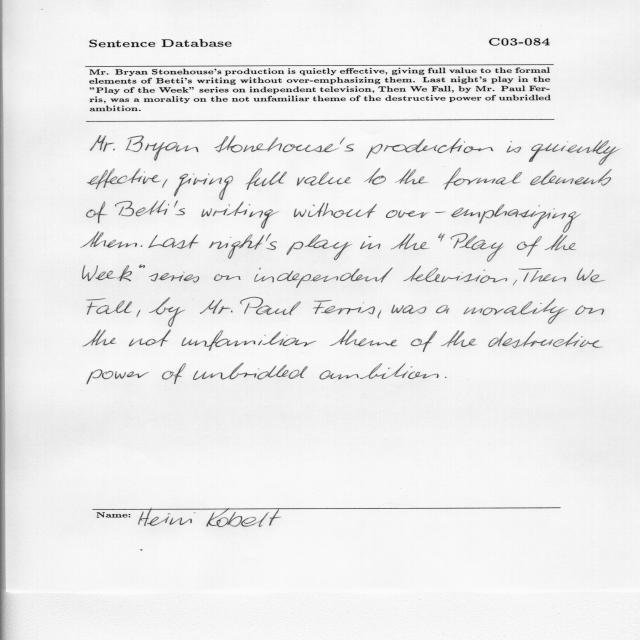word: (386, 204, 581, 233), (254, 267, 393, 288), (182, 330, 317, 351), (463, 298, 568, 324), (366, 138, 494, 158), (214, 136, 354, 153), (529, 140, 620, 165), (202, 201, 280, 229), (319, 363, 439, 380), (488, 331, 603, 348), (193, 363, 308, 380), (126, 135, 199, 161), (404, 265, 508, 283), (209, 233, 277, 259), (287, 235, 353, 261), (443, 168, 522, 189), (174, 173, 233, 200), (87, 169, 161, 190), (451, 233, 504, 262), (530, 169, 612, 186), (294, 202, 377, 218), (240, 297, 301, 315), (330, 330, 398, 346), (149, 297, 185, 327), (82, 265, 145, 282), (115, 201, 185, 216), (87, 369, 149, 384), (246, 168, 287, 190), (81, 232, 137, 248), (313, 300, 375, 314), (148, 234, 199, 249), (87, 298, 132, 315), (297, 172, 351, 186), (128, 330, 171, 347), (391, 233, 430, 250), (519, 268, 566, 282), (441, 330, 477, 347), (83, 330, 116, 347), (411, 331, 437, 352), (545, 234, 577, 251), (517, 236, 542, 257), (162, 363, 186, 384), (395, 169, 428, 184), (200, 299, 233, 314), (159, 272, 200, 283), (87, 202, 107, 224), (90, 135, 115, 152), (577, 268, 605, 283), (364, 168, 386, 185), (392, 305, 427, 314), (575, 305, 604, 315), (360, 236, 381, 249), (214, 274, 241, 281), (507, 141, 521, 153), (436, 305, 449, 314), (149, 273, 158, 282), (438, 233, 445, 241), (163, 179, 168, 188), (378, 310, 382, 318), (137, 310, 141, 317), (513, 280, 517, 286), (141, 245, 142, 247), (445, 377, 446, 378)
